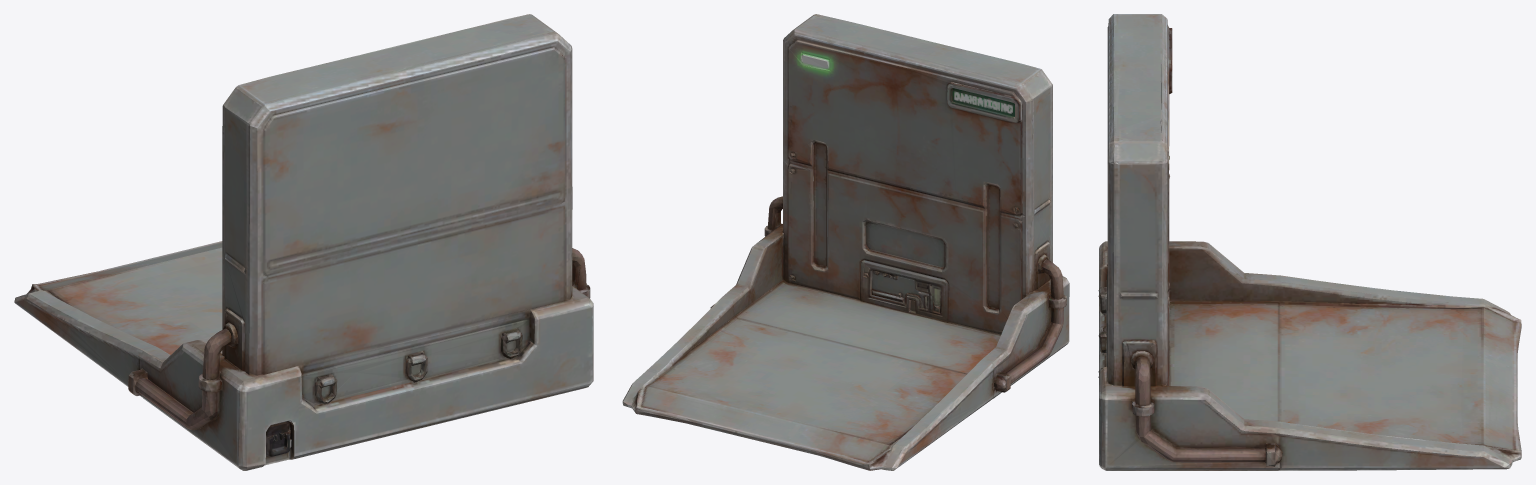
The model's file is P_ChargePod_003.obj.
The picture shows the model from 3 angles, left to right: view 1: azimuth 30°, elevation 25°; view 2: azimuth 150°, elevation 25°; view 3: azimuth 270°, elevation 25°; orthographic projection. The views are drawn at different scales.
Size of the model in its own units: 1.09 by 0.9572 by 1.15.
2 materials, 2 textured.
